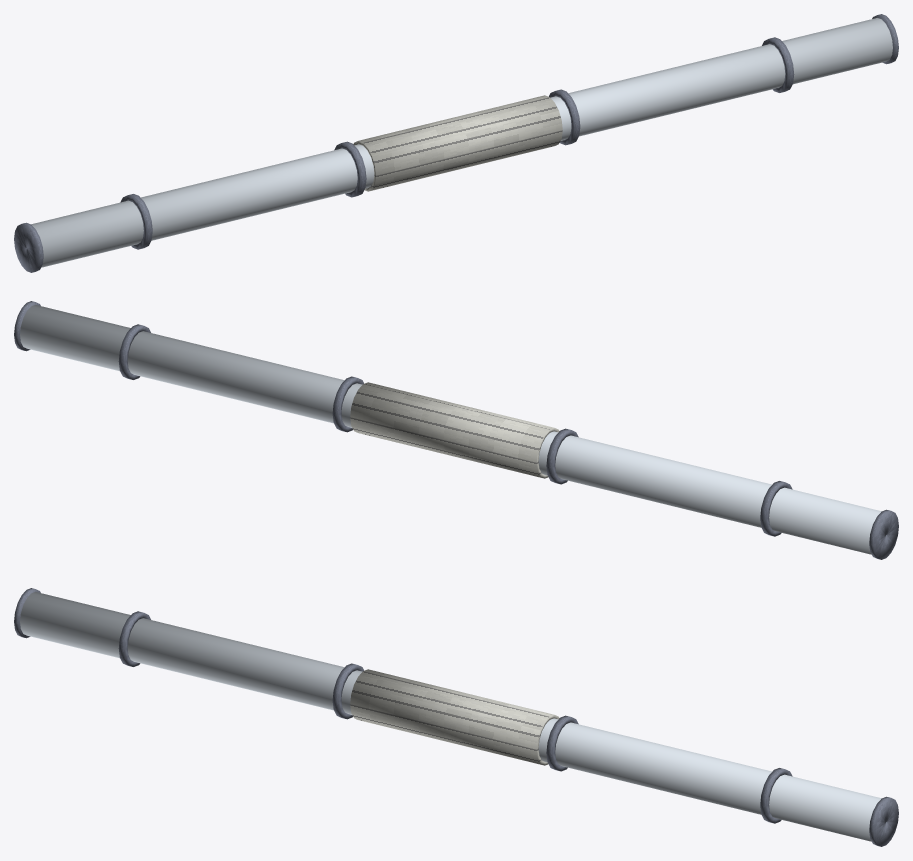
The model's file is p_jb_pipe.glb.
3 views of the same model, one above another, from view 1: azimuth 30°, elevation 25°; view 2: azimuth 150°, elevation 25°; view 3: azimuth 330°, elevation 25° (orthographic).
Parts seen in each view (by area): view 1: p_jb_pipe_lod0; view 2: p_jb_pipe_lod0; view 3: p_jb_pipe_lod0.
Boxes of the visible parts, x1=… form: p_jb_pipe_lod0: x1=14, y1=14, x2=898, y2=272; p_jb_pipe_lod0: x1=14, y1=301, x2=898, y2=559; p_jb_pipe_lod0: x1=14, y1=588, x2=898, y2=846.
Size of what is drawn, in the model's own units: 22.12 by 1.24 by 1.24.
Materials: 2 (1 with a texture image).
